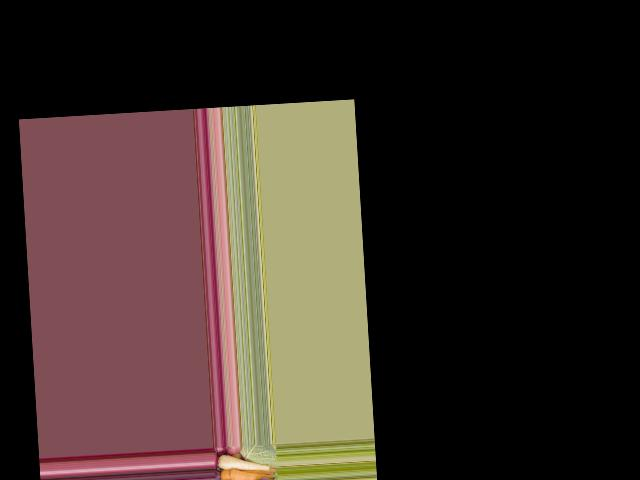carrot: (227, 470, 272, 480)
